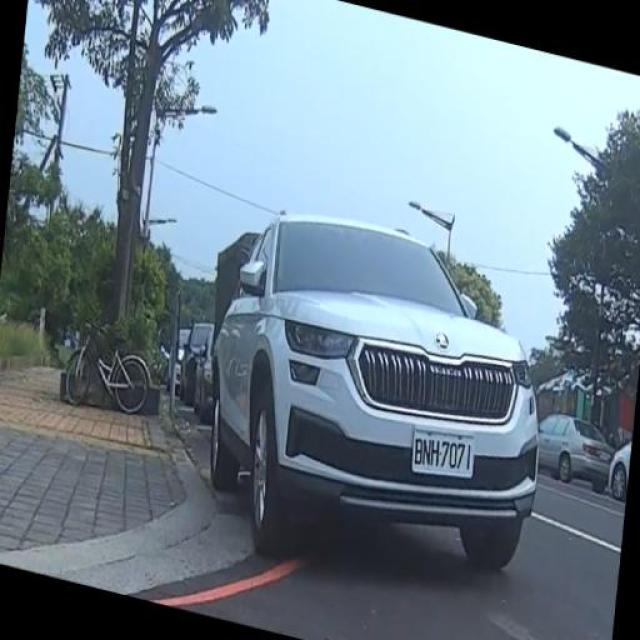illegalparking: (172, 190, 564, 585)
